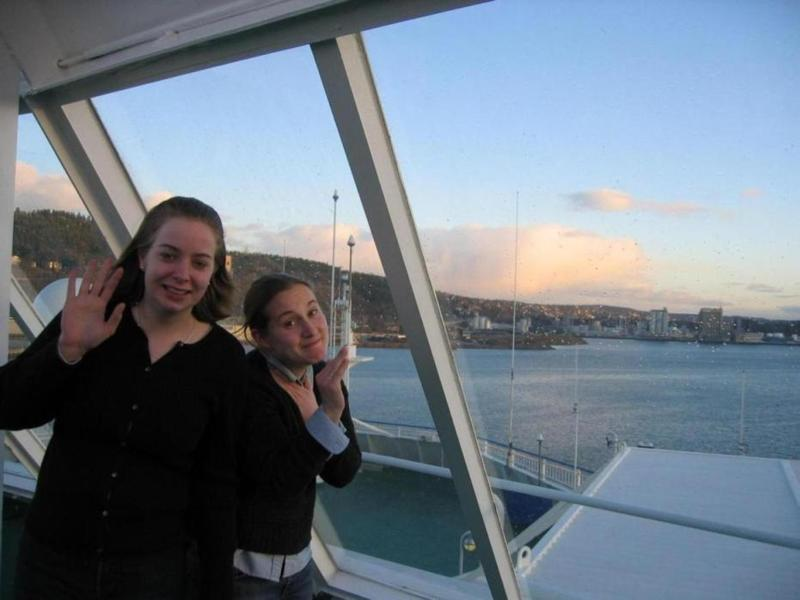person: (1, 196, 311, 599)
